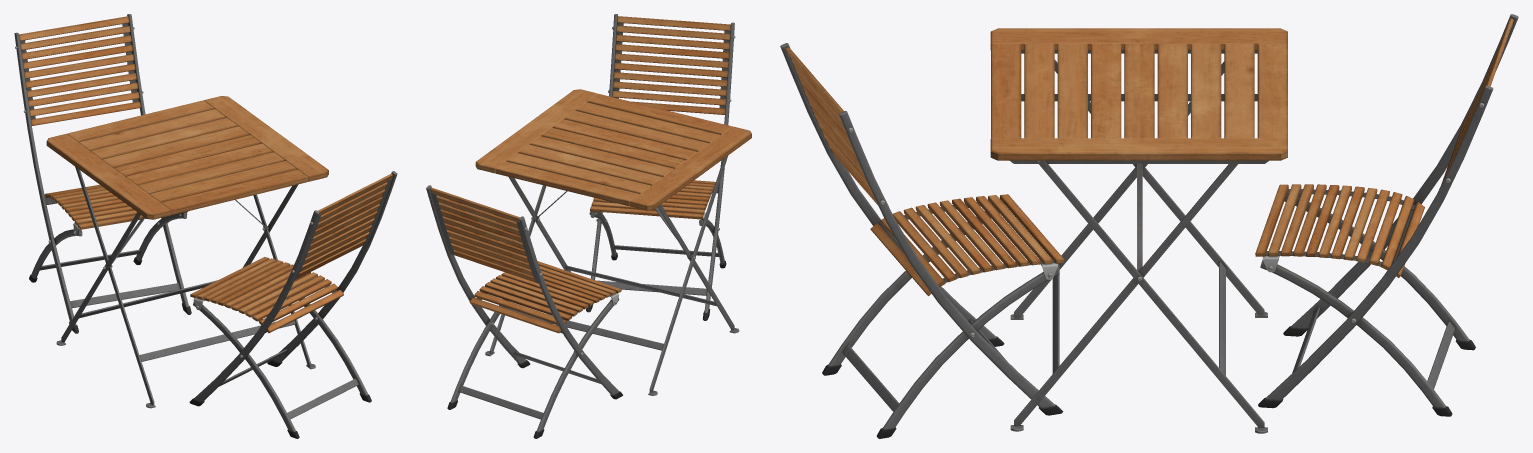
Rendered from outdoor_table_chair_set_01.glb.
3 views of the same model, side by side, from view 1: azimuth 30°, elevation 25°; view 2: azimuth 150°, elevation 25°; view 3: azimuth 270°, elevation 25° (orthographic). The views are drawn at different scales.
Visible parts, largest first — view 1: outdoor_table_chair_set_01_chair_01, outdoor_table_chair_set_01_table; view 2: outdoor_table_chair_set_01_chair_01, outdoor_table_chair_set_01_table; view 3: outdoor_table_chair_set_01_table, outdoor_table_chair_set_01_chair_01.
Part boxes in pixels (bbox=[...]): outdoor_table_chair_set_01_chair_01: bbox=[14, 14, 397, 438]; outdoor_table_chair_set_01_table: bbox=[46, 96, 328, 408]; outdoor_table_chair_set_01_chair_01: bbox=[426, 14, 735, 438]; outdoor_table_chair_set_01_table: bbox=[475, 89, 751, 395]; outdoor_table_chair_set_01_table: bbox=[990, 28, 1287, 433]; outdoor_table_chair_set_01_chair_01: bbox=[780, 14, 1518, 438].
Size of the model in its own units: 0.7417 by 0.8586 by 1.72.
2 materials, 2 textured.
